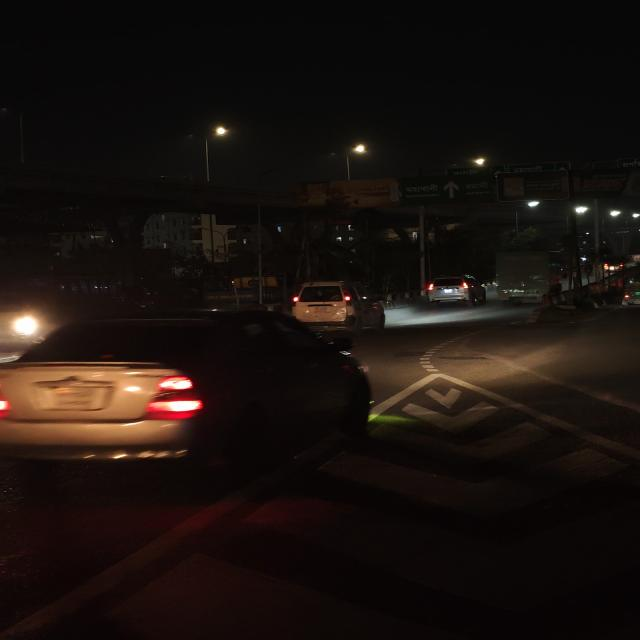car: (0, 311, 378, 473), (284, 279, 374, 331), (423, 274, 486, 308)
cng: (618, 280, 640, 312)
truck: (492, 249, 565, 299)
